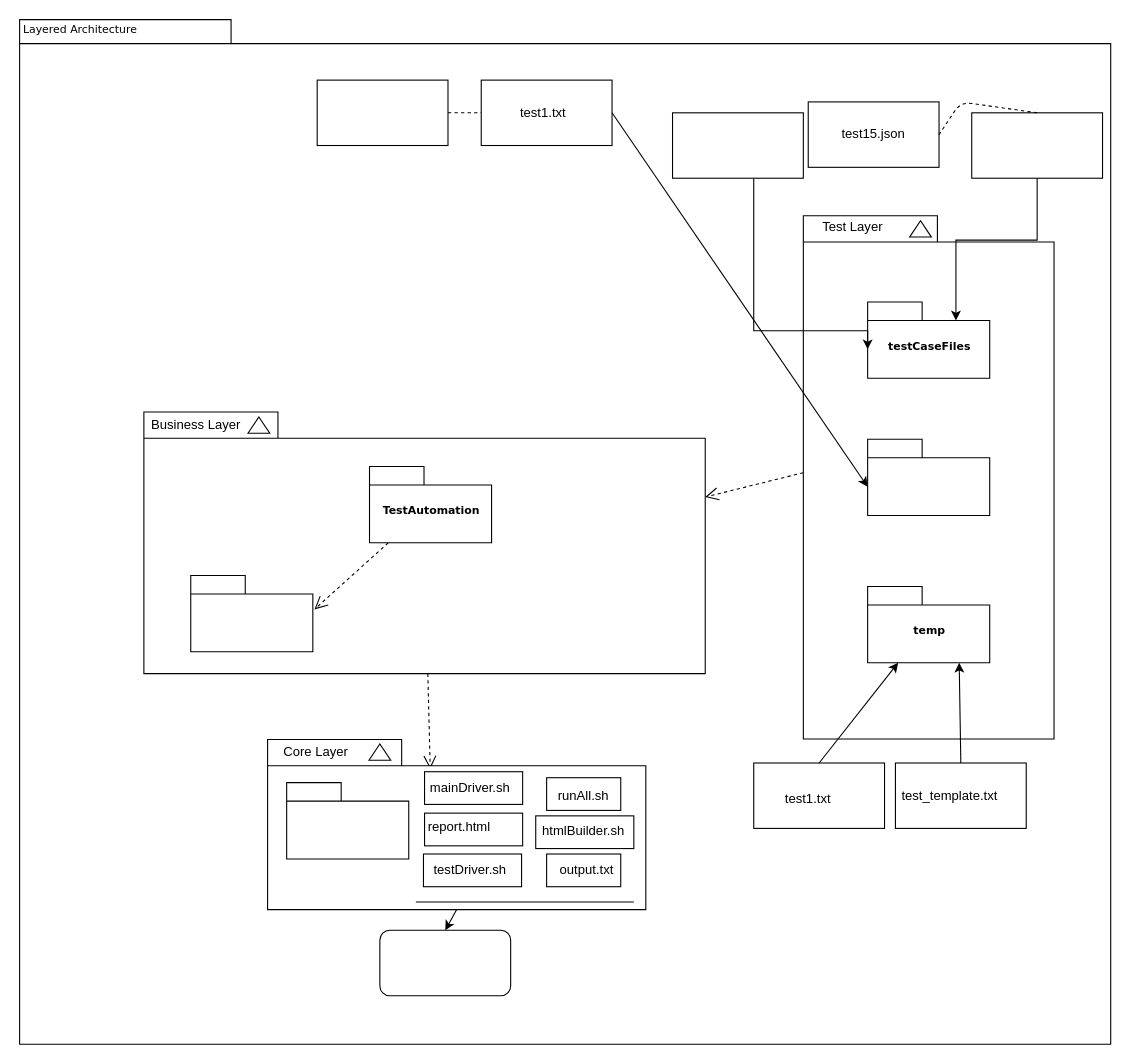
This 1129x1063 diagram has some shape labels left out. Here are the shapes that lost their labels. From the top down, the centre of each, then its label:
pixel 382 112: test5.txt
pixel 737 145: template.json
pixel 1037 145: test1.json
pixel 928 477: testCases
pixel 251 613: docs
pixel 347 820: Scripts
pixel 445 962: project
